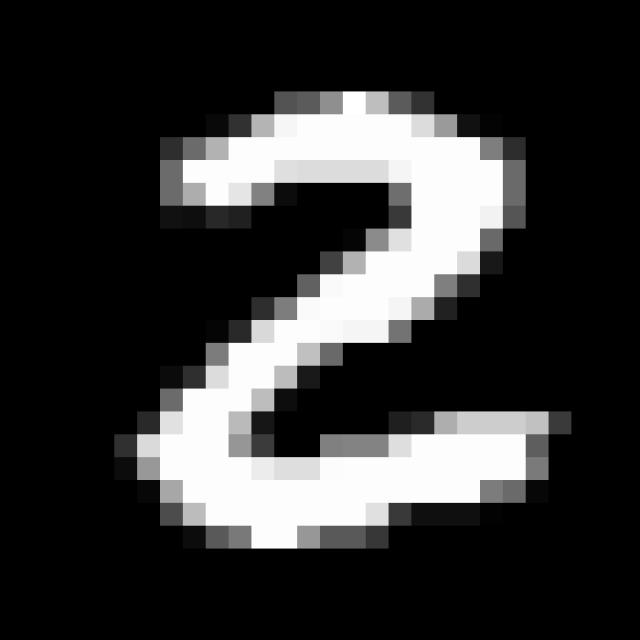two -2-: (137, 78, 562, 562)
